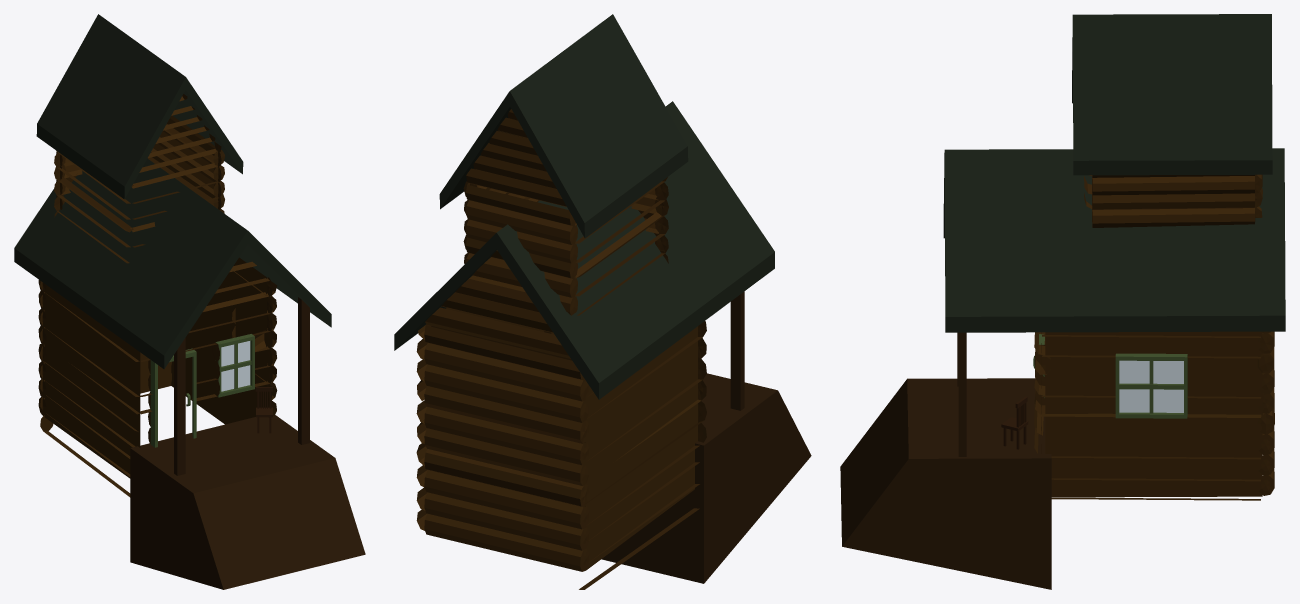
File: Casa02.gltf
The picture shows the model from 3 angles, left to right: view 1: azimuth 30°, elevation 25°; view 2: azimuth 150°, elevation 25°; view 3: azimuth 270°, elevation 25°; orthographic projection. The views are drawn at different scales.
Visible parts, largest first — view 1: Cabana Verde 02.004; view 2: Cabana Verde 02.004; view 3: Cabana Verde 02.004.
Part boxes in pixels (x1,y1,x2,y2): Cabana Verde 02.004: [14, 14, 365, 589]; Cabana Verde 02.004: [394, 14, 811, 589]; Cabana Verde 02.004: [840, 14, 1285, 589].
Bounding box in the file's own units: 1.34 × 3.46 × 2.62.
